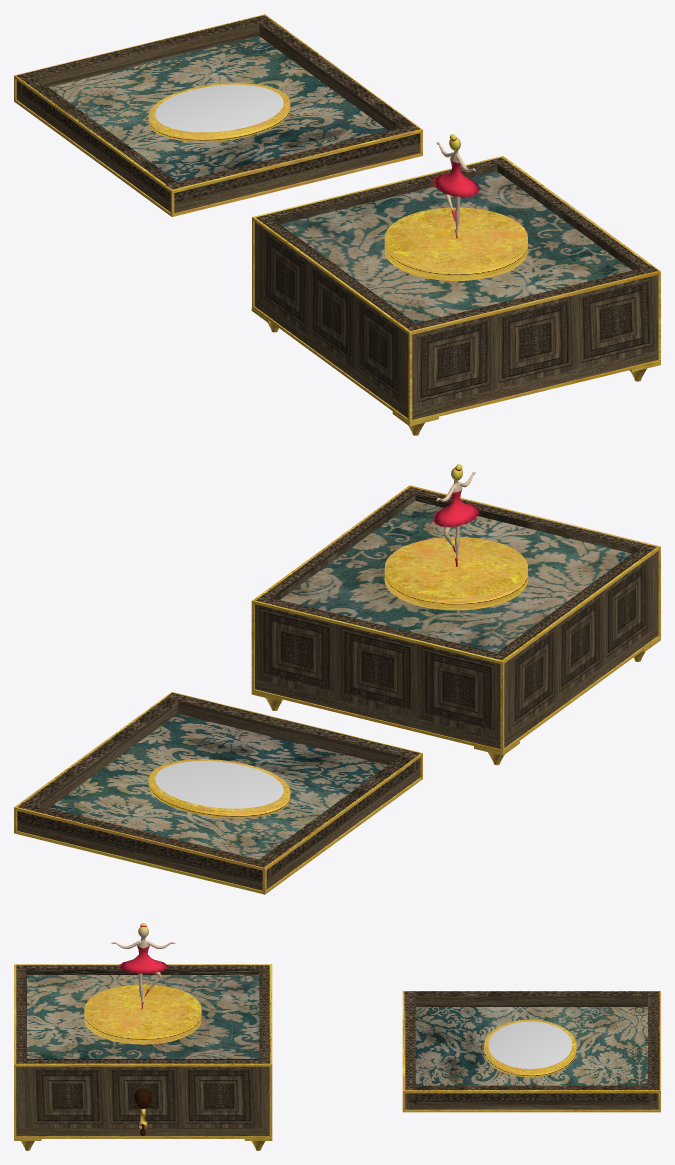
Rendered from music_box2.fbx.
3 renders of one model, top to bottom at view 1: azimuth 30°, elevation 25°; view 2: azimuth 150°, elevation 25°; view 3: azimuth 270°, elevation 25°, orthographic. The views are drawn at different scales.
Visible parts, largest first — view 1: BoxBottom, BoxLid, Mirror, MirrorFrame, Ballerina; view 2: BoxBottom, BoxLid, Mirror, MirrorFrame, Ballerina; view 3: BoxBottom, BoxLid, Mirror, Ballerina, MirrorFrame.
Boxes of the visible parts, bbox=[...] form: BoxBottom: bbox=[251, 156, 660, 435]; BoxLid: bbox=[14, 14, 422, 216]; Mirror: bbox=[155, 84, 283, 132]; MirrorFrame: bbox=[148, 83, 290, 141]; Ballerina: bbox=[433, 134, 479, 238]; BoxBottom: bbox=[251, 485, 660, 765]; BoxLid: bbox=[14, 692, 422, 894]; Mirror: bbox=[155, 761, 283, 808]; MirrorFrame: bbox=[148, 759, 290, 818]; Ballerina: bbox=[433, 464, 479, 566]; BoxBottom: bbox=[14, 964, 272, 1150]; BoxLid: bbox=[402, 991, 660, 1112]; Mirror: bbox=[488, 1021, 572, 1068]; Ballerina: bbox=[111, 923, 175, 1009]; MirrorFrame: bbox=[484, 1019, 576, 1077].
Size of the model in its own units: 234 by 170 by 551.
9 materials, 4 textured.
